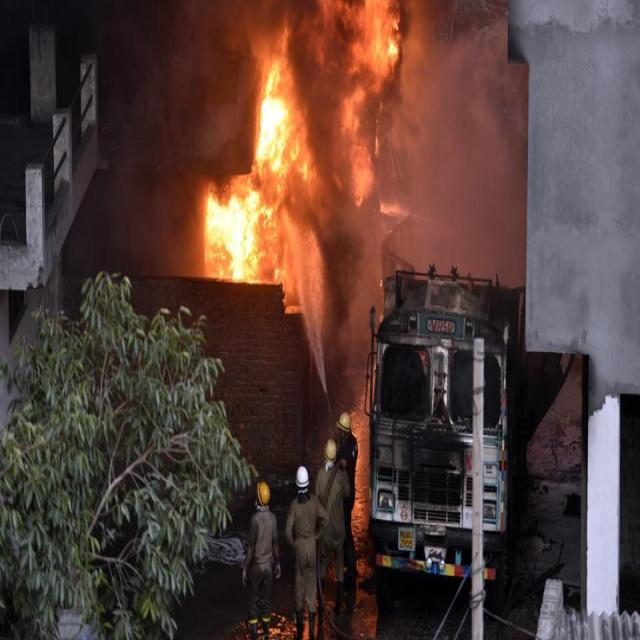Fire: (320, 3, 407, 198), (190, 162, 287, 302), (243, 57, 309, 192)
